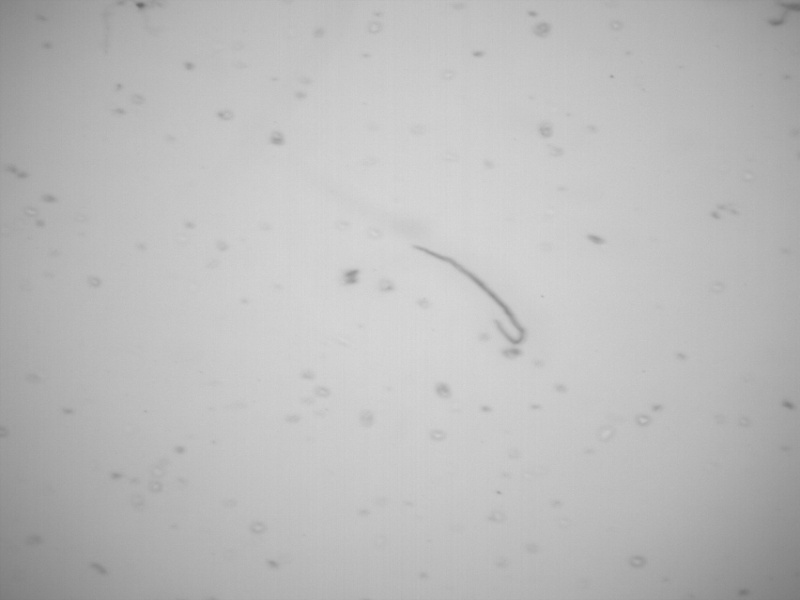fiber: (410, 242, 527, 349)
